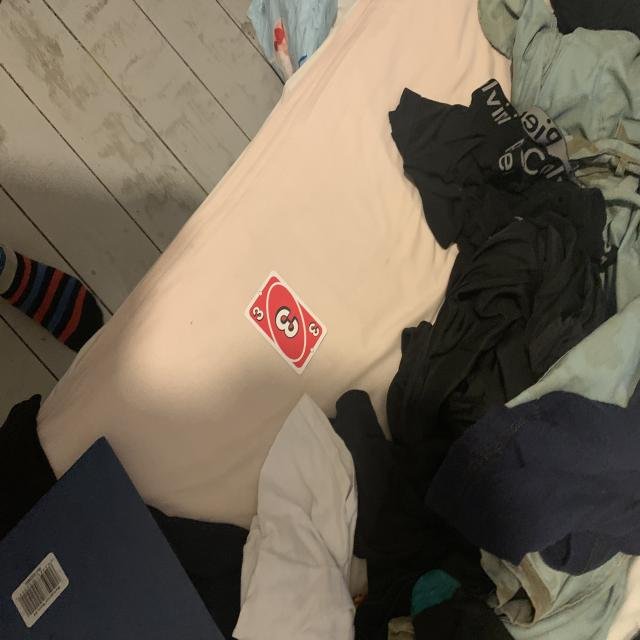lred-3: (250, 305, 267, 323)
